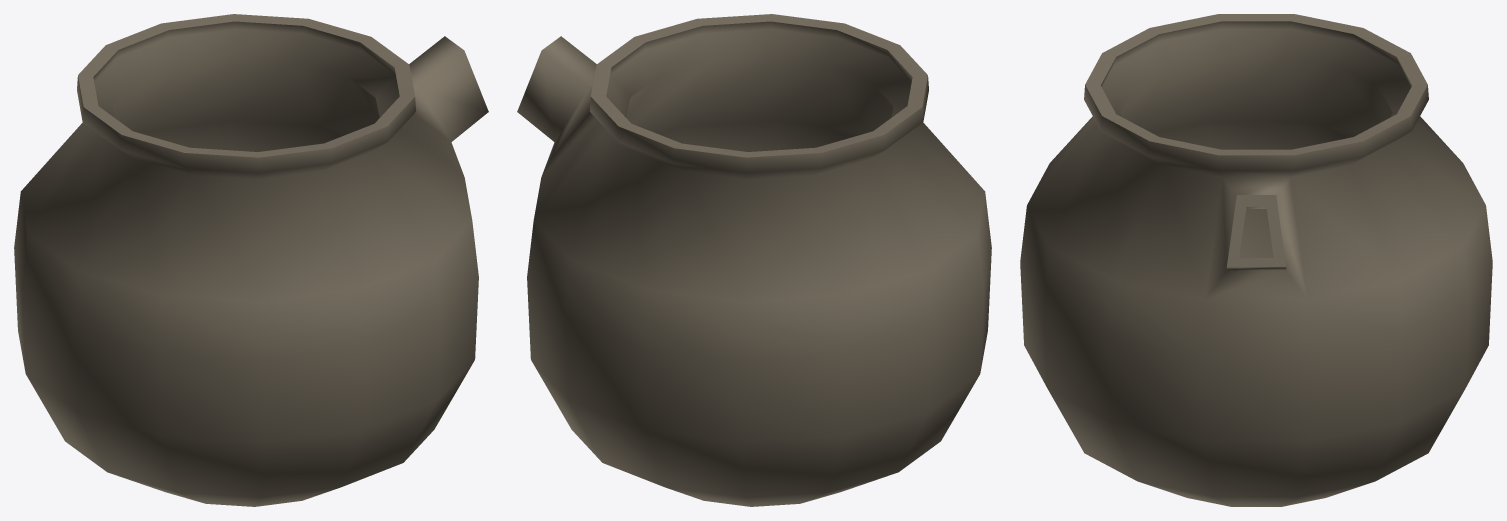
File: SM_JarA.glb
3 renders of one model, left to right at view 1: azimuth 30°, elevation 25°; view 2: azimuth 150°, elevation 25°; view 3: azimuth 270°, elevation 25°, orthographic.
Visible parts, largest first — view 1: SM_JarA; view 2: SM_JarA; view 3: SM_JarA.
Boxes of the visible parts, x1,y1,x2,y2 form: SM_JarA: (14,14,488,506); SM_JarA: (517,14,991,506); SM_JarA: (1020,14,1492,506).
Bounding box in the file's own units: 0.1578 × 0.1324 × 0.1508.
